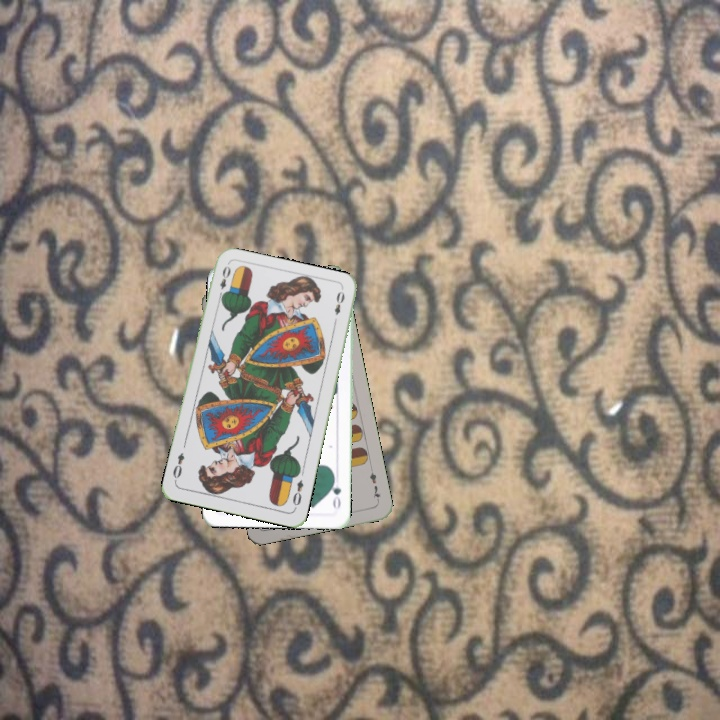E7: (366, 468, 382, 504)
EO: (215, 262, 233, 301), (288, 476, 306, 512)
GO: (327, 472, 344, 513)
